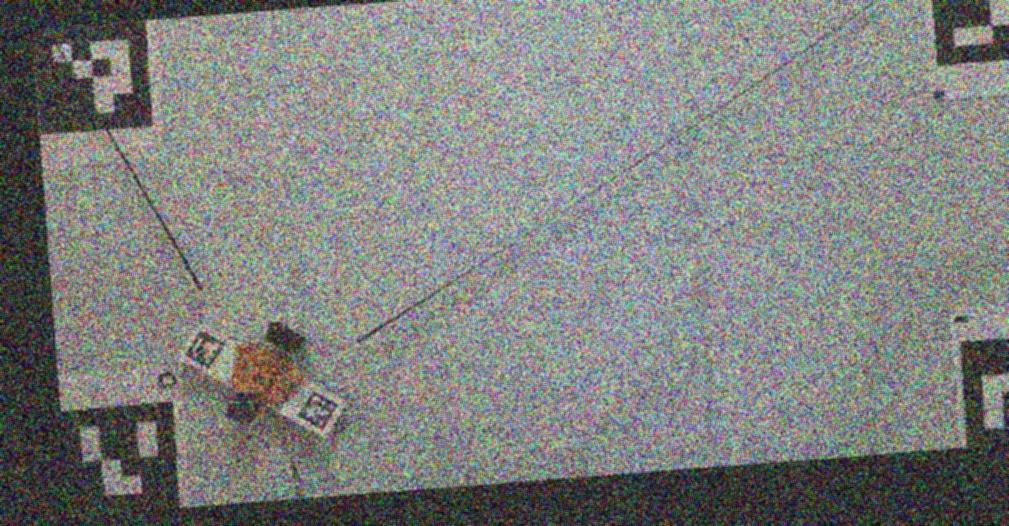robot: (227, 321, 308, 426)
